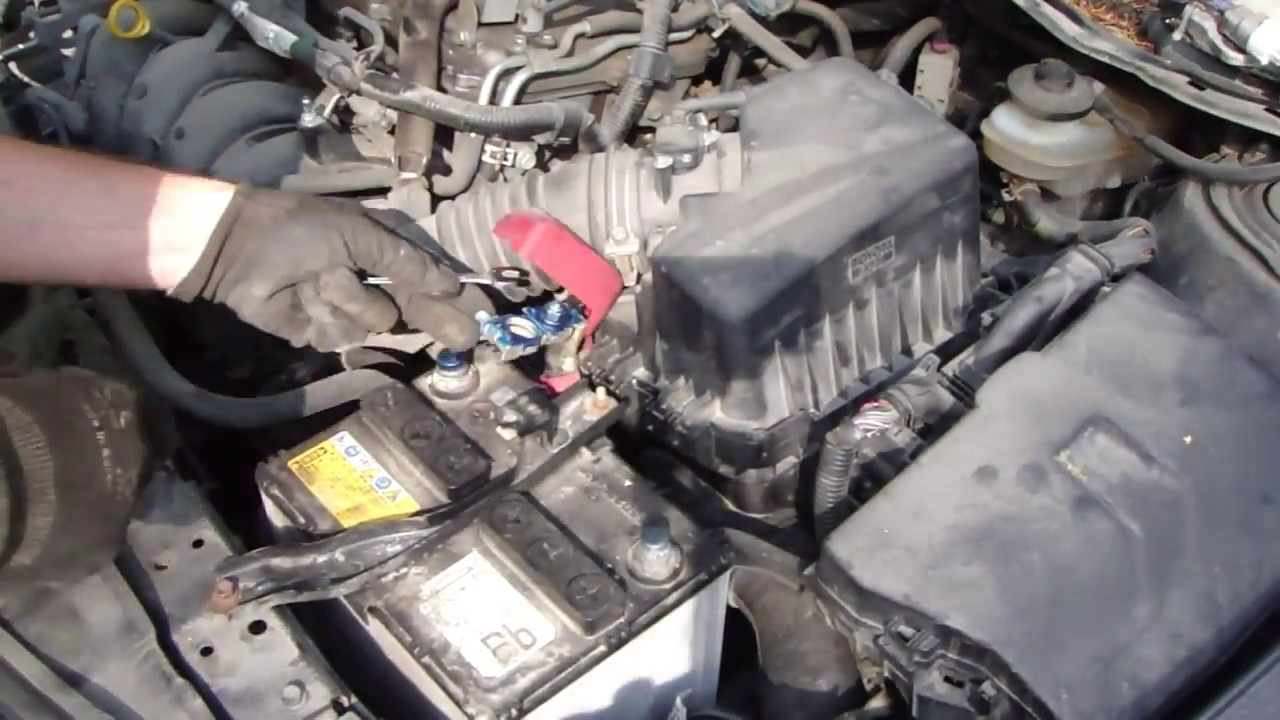battery: (261, 345, 729, 689)
neg_disconnected: (601, 482, 716, 605)
pos_disconnected: (417, 220, 617, 417)
pos_touched: (164, 179, 616, 406)
